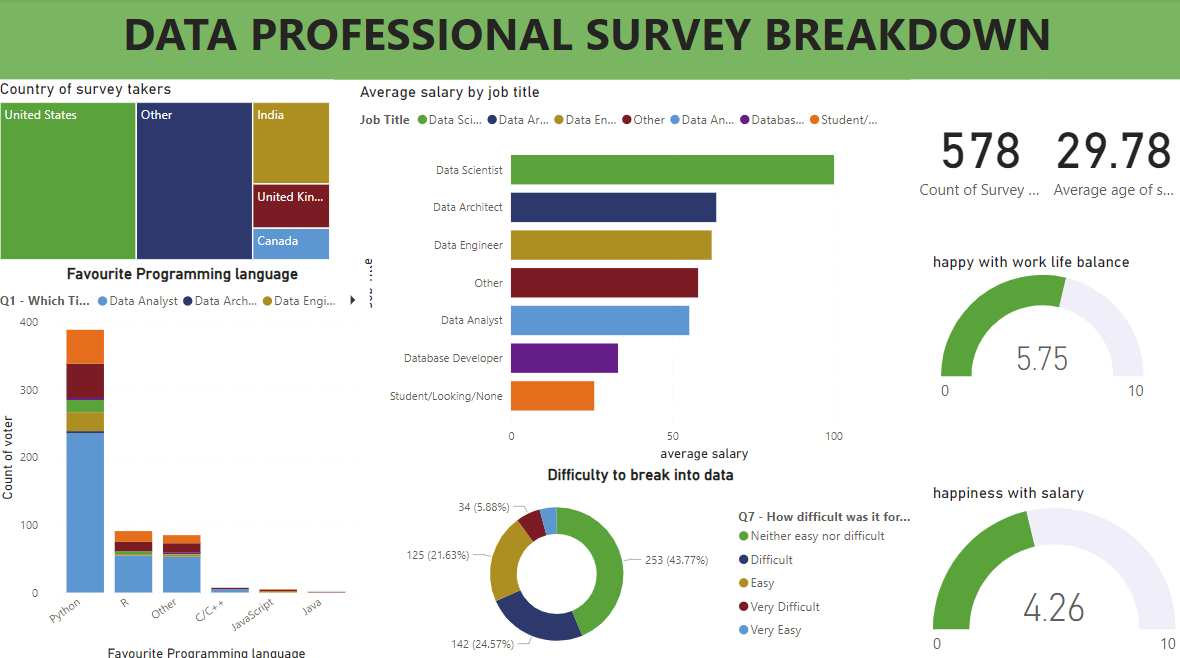

This screenshot's page, from the dashboard's own definition file:
{"tool":"powerbi","page":{"name":"Page 1","canvas":[1280,720],"ordinal":0},"visuals":[{"type":"textbox","box":[0,0,1279.2,89.1],"z":0},{"type":"card","fields":{"Values":["Count(Data Professional Survey.Unique ID)"]},"box":[989.3,89.1,145.7,158.7],"z":1},{"type":"card","fields":{"Values":["Avg(Data Professional Survey.Q10 - Current Age)"]},"box":[1135.1,89.1,144.1,158.7],"z":2},{"type":"barChart","title":"Average salary by job title","fields":{"Category":["Data Professional Survey.Q1 - Which Title Best Fits your Current Role?.1"],"Y":["Avg(Data Professional Survey.Average salary)"],"Series":["Data Professional Survey.Q1 - Which Title Best Fits your Current Role?.1"]},"box":[388.6,92.3,600.7,412.9],"z":3},{"type":"columnChart","title":"Favourite Programming language","fields":{"Category":["Data Professional Survey.Q5 - Favorite Programming Language.1"],"Y":["CountNonNull(Data Professional Survey.Unique ID)"],"Series":["Data Professional Survey.Q1 - Which Title Best Fits your Current Role?.1"]},"box":[0,288.2,404.8,432.3],"z":4},{"type":"treemap","title":"Country of survey takers","fields":{"Values":["CountNonNull(Data Professional Survey.Q11 - Which Country do you live in?.1)"],"Group":["Data Professional Survey.Q11 - Which Country do you live in?.1"]},"box":[0,89.1,365.9,199.2],"z":5},{"type":"gauge","title":"happy with work life balance","fields":{"Y":["Avg(Data Professional Survey.Q6 - How Happy are you in your Current Position with the following? (Work/Life Balance))"],"MinValue":["Min(Data Professional Survey.Q6 - How Happy are you in your Current Position with the following? (Work/Life Balance))"],"MaxValue":["Max(Data Professional Survey.Q6 - How Happy are you in your Current Position with the following? (Work/Life Balance))"]},"box":[1007.2,275.3,246.1,170],"z":6},{"type":"gauge","title":"happiness with salary","fields":{"Y":["Avg(Data Professional Survey.Q6 - How Happy are you in your Current Position with the following? (Salary))"],"MinValue":["Min(Data Professional Survey.Q6 - How Happy are you in your Current Position with the following? (Salary))"],"MaxValue":["Max(Data Professional Survey.Q6 - How Happy are you in your Current Position with the following? (Salary))"]},"box":[1007.2,524.6,272,195.9],"z":7},{"type":"donutChart","title":"Difficulty to break into data","fields":{"Category":["Data Professional Survey.Q7 - How difficult was it for you to break into Data?"],"Y":["CountNonNull(Data Professional Survey.Q7 - How difficult was it for you to break into Data?)"]},"box":[404.8,505.2,584.5,215.4],"z":8}]}

Visuals, with their boxes in screenshot pixels (x1, y1, x2, y2), scaled from the page's 1280x720 canvas onto the 1180x658 screenshot:
textbox: box(0, 0, 1179, 81)
card - Count(Data Professional Survey.Unique ID): box(912, 81, 1046, 226)
card - Avg(Data Professional Survey.Q10 - Current Age): box(1046, 81, 1179, 226)
"Average salary by job title" barChart: box(358, 84, 912, 462)
"Favourite Programming language" columnChart: box(0, 263, 373, 657)
"Country of survey takers" treemap: box(0, 81, 337, 263)
"happy with work life balance" gauge: box(929, 252, 1155, 407)
"happiness with salary" gauge: box(929, 479, 1179, 657)
"Difficulty to break into data" donutChart: box(373, 462, 912, 657)
